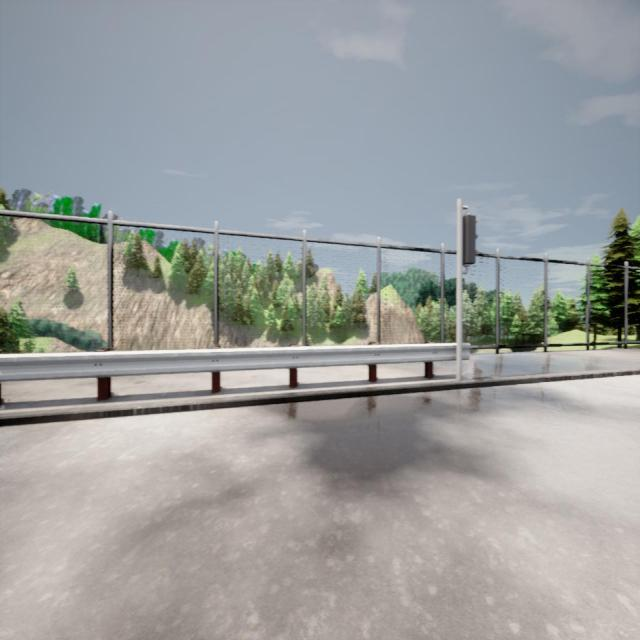traffic_light: (462, 215, 479, 266)
